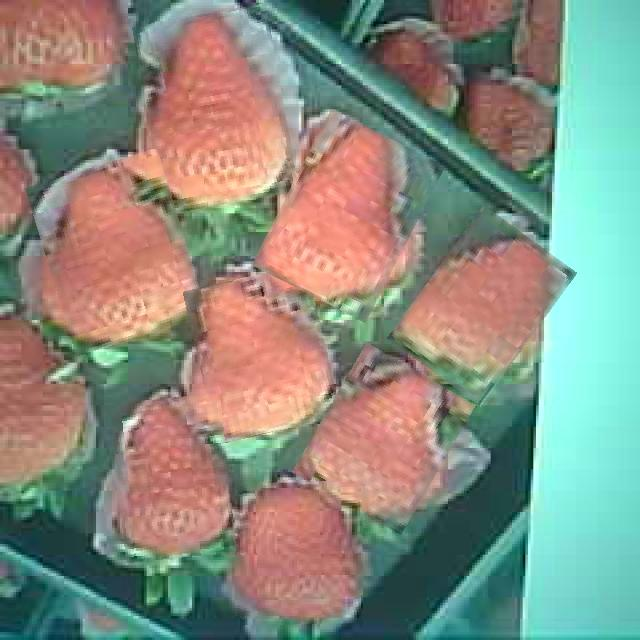strawberry: (269, 118, 429, 314), (36, 156, 196, 348), (140, 9, 292, 210), (406, 215, 559, 398), (306, 353, 462, 524), (190, 270, 333, 439), (113, 395, 232, 560), (238, 482, 362, 626)
